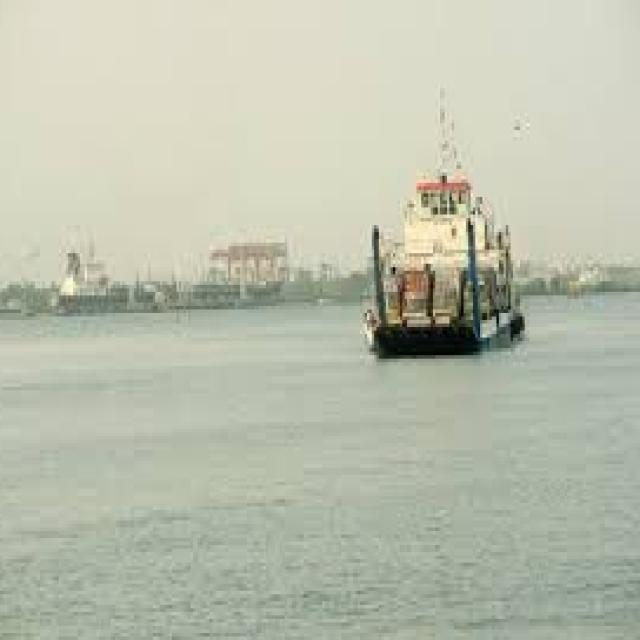houseboat: (353, 105, 536, 352)
